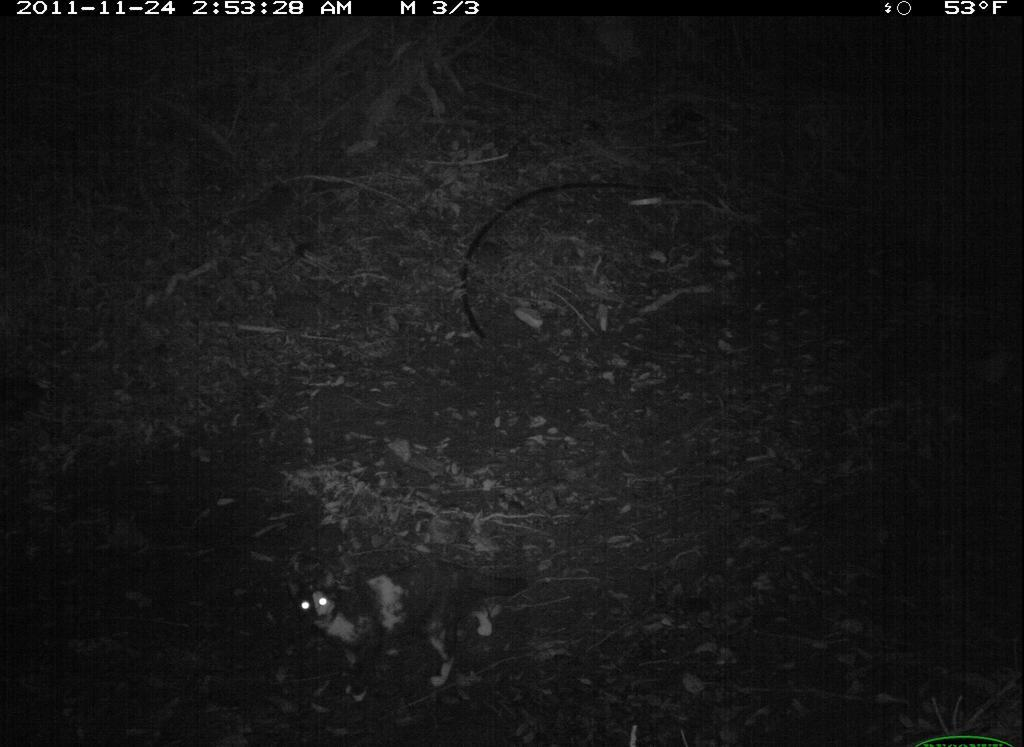cat: (282, 553, 532, 707)
